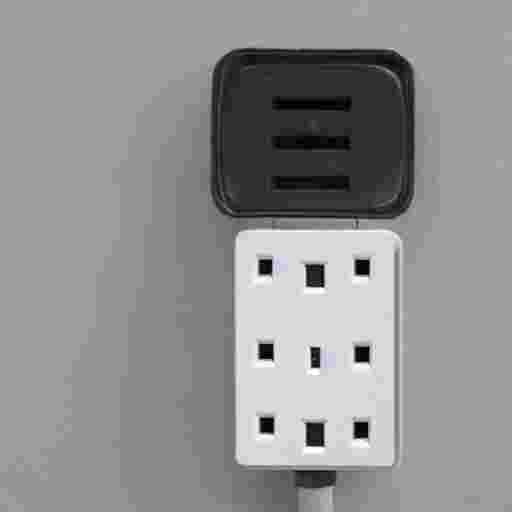power outlet: (235, 229, 401, 469), (211, 48, 413, 217)
